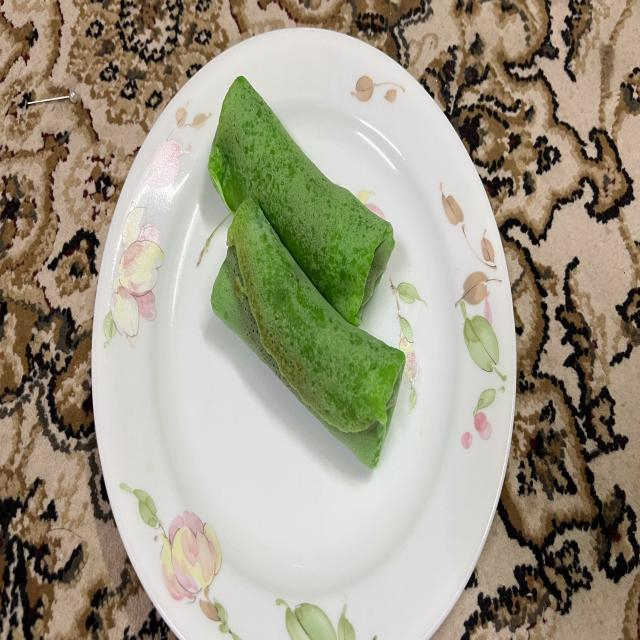Kuih-Ketayap: (211, 198, 410, 469), (209, 76, 394, 327)
